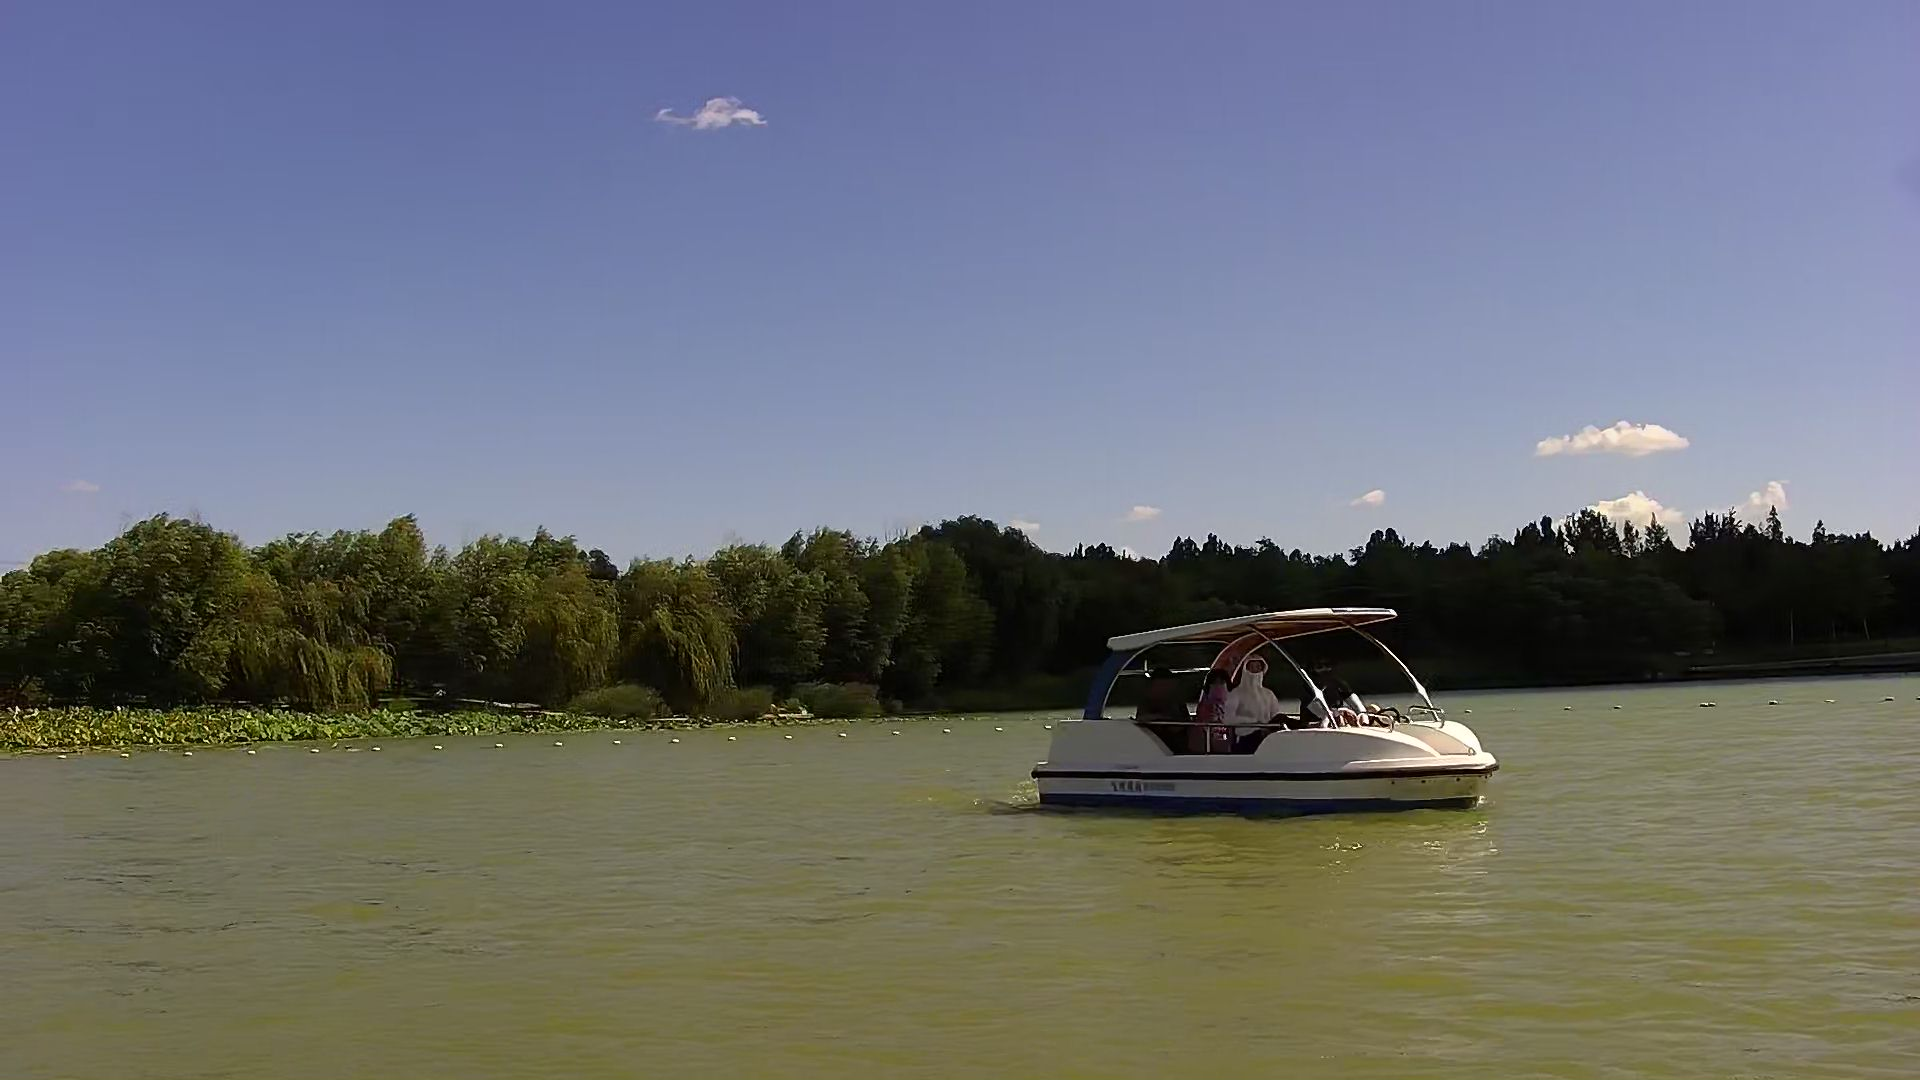boat: (1038, 604, 1513, 825)
